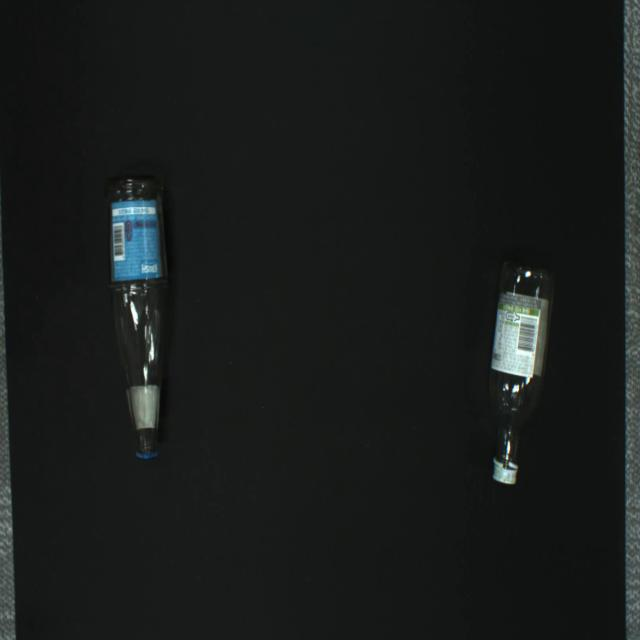beer-bottle: (107, 175, 169, 458)
soju-bottle: (490, 262, 554, 484)
